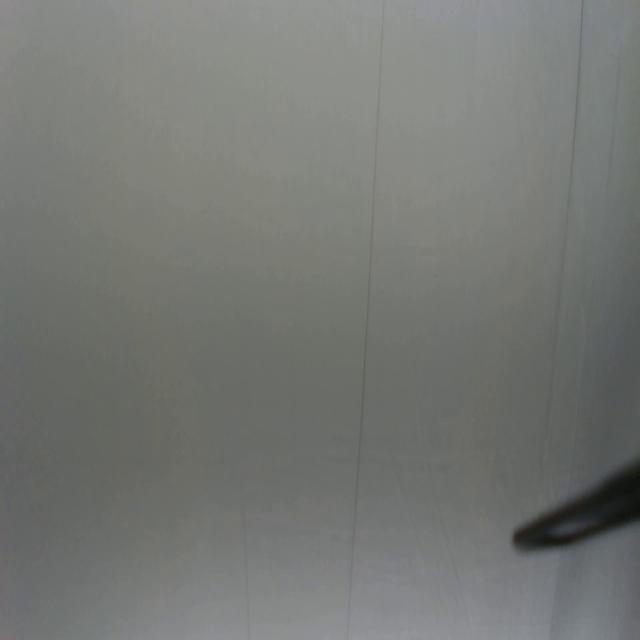crease: (346, 0, 387, 640), (543, 0, 587, 433), (240, 500, 252, 640)
